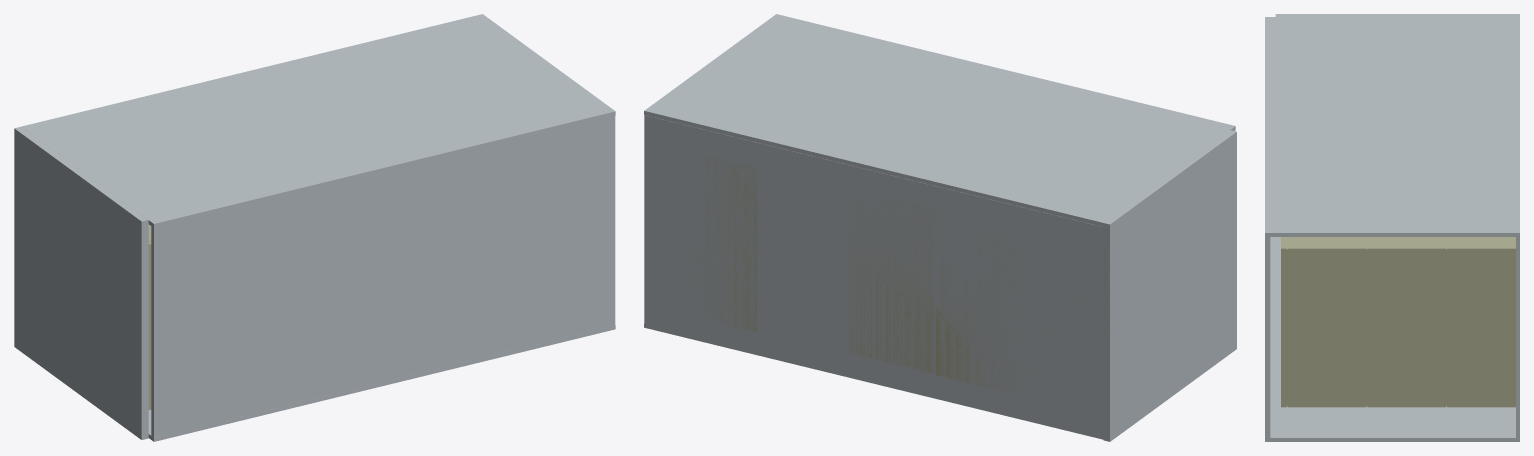
File: tinker.obj
3 views of the same model, side by side, from view 1: azimuth 30°, elevation 25°; view 2: azimuth 150°, elevation 25°; view 3: azimuth 270°, elevation 25° (orthographic). The views are drawn at different scales.
Visible parts, largest first — view 1: obj_3, obj_1, obj_4, obj_2, obj_5; view 2: obj_0, obj_1, obj_4, obj_5, obj_2; view 3: obj_1, obj_5, obj_2, obj_3, obj_0, obj_4.
Part boxes in pixels (box(x1,y1,x2,y2)): obj_3: box(151, 115, 615, 437); obj_1: box(21, 14, 615, 227); obj_4: box(14, 126, 148, 439); obj_2: box(148, 325, 615, 441); obj_5: box(148, 224, 151, 409); obj_0: box(644, 115, 1103, 435); obj_1: box(644, 14, 1235, 226); obj_4: box(1103, 130, 1236, 441); obj_5: box(678, 151, 1106, 397); obj_2: box(644, 323, 1103, 439); obj_1: box(1265, 17, 1519, 236); obj_5: box(1281, 237, 1515, 407); obj_2: box(1265, 237, 1519, 441); obj_3: box(1265, 237, 1270, 437); obj_0: box(1516, 237, 1519, 437); obj_4: box(1275, 14, 1519, 16).
Size of the model in its own units: 488 by 218 by 240.
